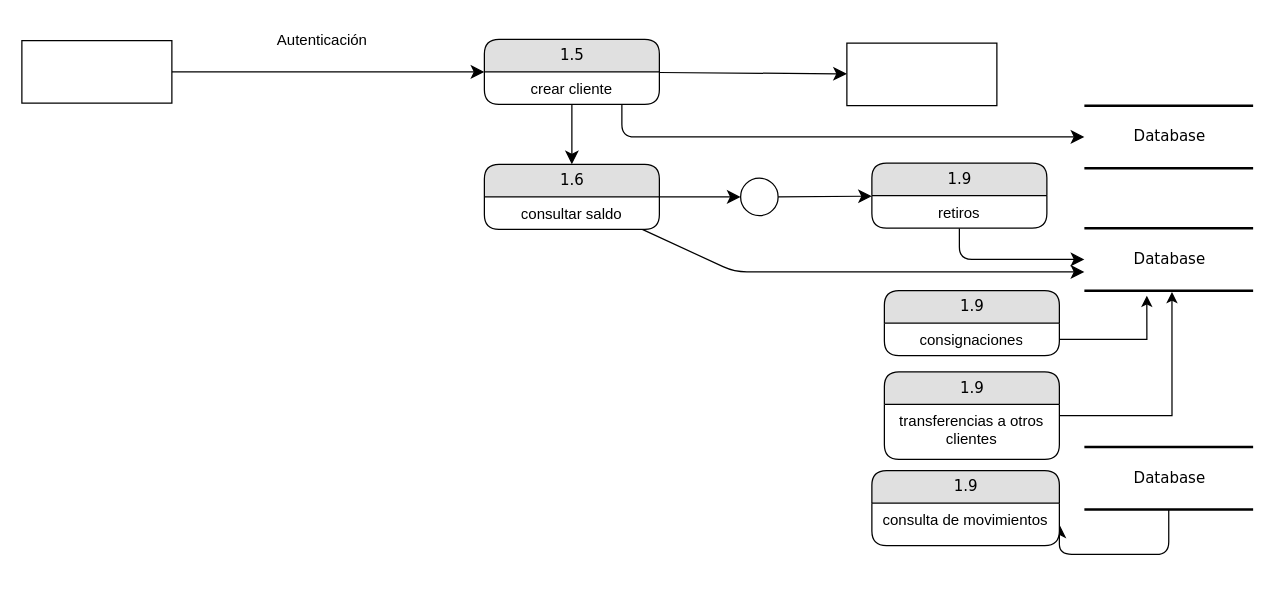
Some shapes in this 1276 by 589 pixel diagram are drawn without their labels. Each missing label, with the centre of its shape:
"asignar cuenta asignar saldo consultar usuarios" belongs at (x=921, y=74).
"Inicio" belongs at (x=96, y=71).
